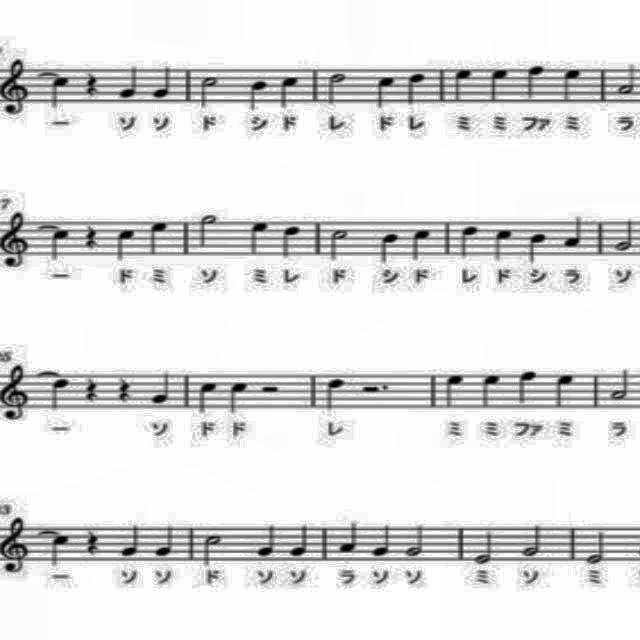Half-note: (322, 65, 350, 107), (581, 528, 609, 570), (200, 530, 228, 570), (400, 520, 428, 560), (322, 228, 353, 264), (612, 217, 640, 255), (521, 520, 545, 564), (195, 210, 221, 250), (197, 73, 221, 113), (615, 58, 639, 98), (608, 364, 632, 404), (472, 528, 496, 568)
Half-rest: (358, 378, 392, 398), (258, 380, 282, 396)
Quarter-note: (150, 61, 178, 108), (276, 223, 308, 264), (551, 369, 579, 415), (512, 366, 544, 406), (114, 59, 142, 104), (44, 374, 72, 416), (409, 224, 438, 264), (253, 519, 277, 567), (523, 58, 549, 102), (561, 211, 587, 255), (44, 531, 74, 569), (487, 64, 515, 104), (456, 220, 484, 260), (148, 370, 176, 410), (476, 372, 504, 412), (152, 518, 180, 558), (442, 371, 468, 414), (403, 69, 429, 111), (322, 374, 348, 416), (374, 70, 398, 114), (450, 63, 474, 107), (375, 228, 401, 268), (286, 521, 312, 561), (146, 218, 170, 258), (248, 216, 272, 256), (194, 376, 218, 416), (368, 522, 392, 562), (278, 74, 304, 110), (113, 226, 139, 262), (50, 73, 74, 111), (526, 228, 550, 266), (248, 73, 270, 113), (336, 518, 358, 558), (558, 66, 582, 102), (50, 226, 74, 262), (492, 228, 516, 264), (118, 523, 142, 559), (228, 378, 248, 416)
Quarter-rest: (81, 66, 107, 102), (112, 372, 136, 408), (80, 526, 100, 560), (81, 220, 101, 252), (80, 372, 100, 403)
Treble-clef: (1, 210, 36, 274), (0, 361, 32, 426), (0, 516, 32, 578), (0, 54, 30, 118)
